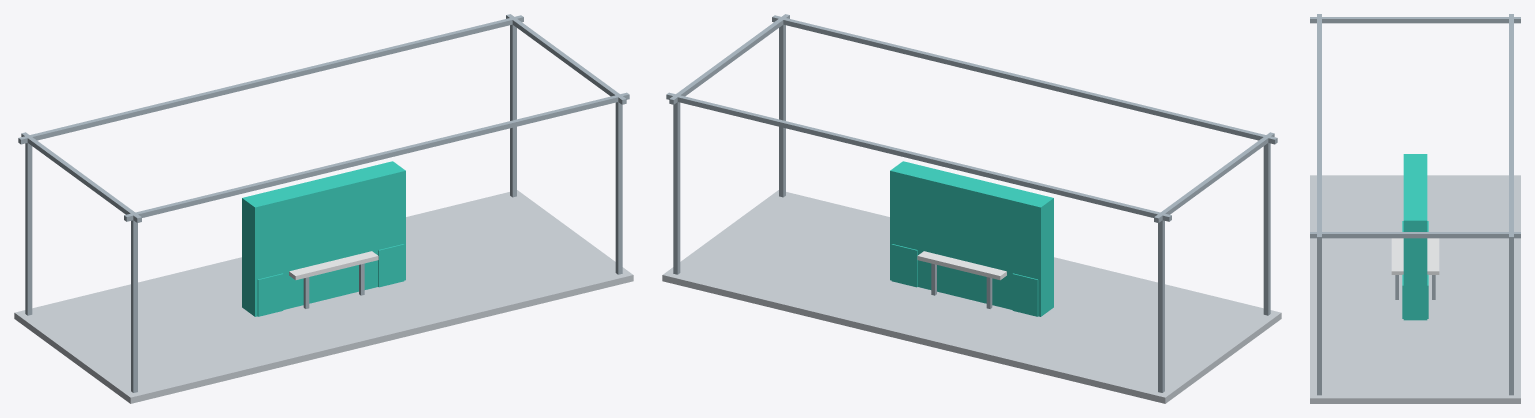
3 renders of one model, left to right at view 1: azimuth 30°, elevation 25°; view 2: azimuth 150°, elevation 25°; view 3: azimuth 270°, elevation 25°, orthographic. The views are drawn at different scales.
Parts seen in each view (by area): view 1: Exhibition Booth Concept; view 2: Exhibition Booth Concept; view 3: Exhibition Booth Concept.
Boxes of the visible parts, x1,y1,x2,y2 form: Exhibition Booth Concept: (14, 14, 633, 403); Exhibition Booth Concept: (662, 14, 1281, 403); Exhibition Booth Concept: (1310, 14, 1520, 403).
Bounding box in the file's own units: 10 × 3.49 × 4.
